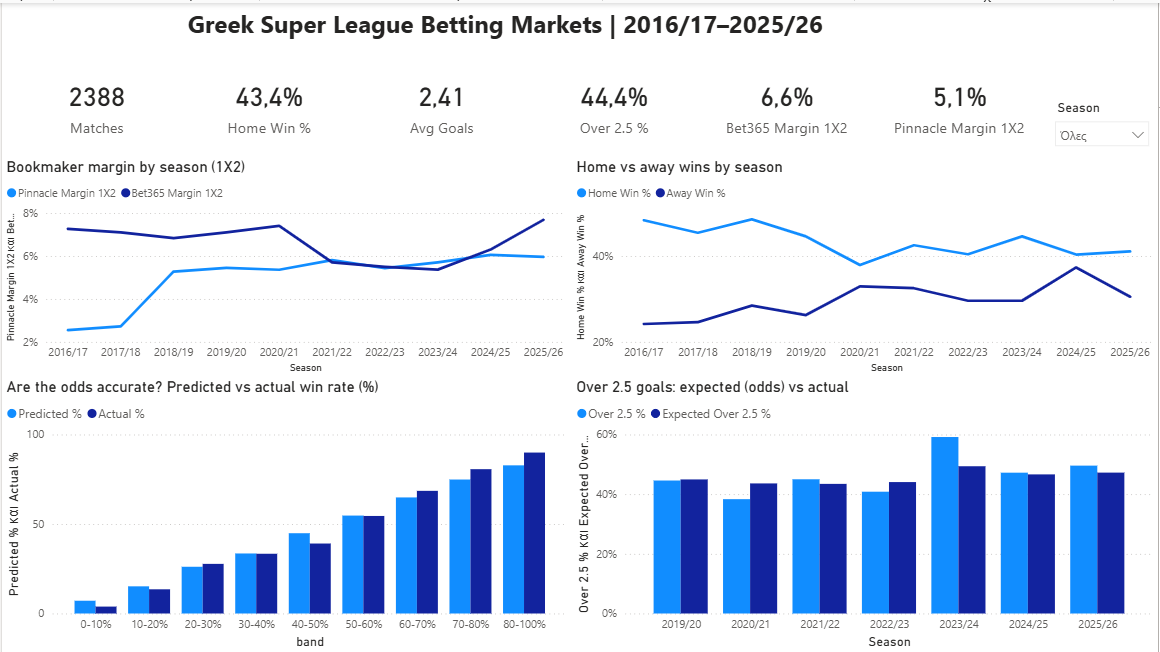

What the dashboard file says about the page in this screenshot:
{"tool":"powerbi","page":{"name":"Σελίδα 1","canvas":[1280,720],"ordinal":0},"visuals":[{"type":"card","fields":{"Values":["matches_clean.Matches"]},"box":[9.7,44.3,191,137],"z":0},{"type":"card","fields":{"Values":["matches_clean.Home Win %"]},"box":[200.7,44.3,191,137],"z":1000},{"type":"card","fields":{"Values":["matches_clean.Avg Goals"]},"box":[391.7,44.3,191,137],"z":2000},{"type":"card","fields":{"Values":["matches_clean.Over 2.5 %"]},"box":[582.7,44.3,191,137],"z":3000},{"type":"card","fields":{"Values":["matches_clean.Bet365 Margin 1X2"]},"box":[773.7,44.3,191,137],"z":4000},{"type":"card","fields":{"Values":["matches_clean.Pinnacle Margin 1X2"]},"box":[964.7,44.3,191,137],"z":5000},{"type":"lineChart","title":"Bookmaker margin by season (1X2)","fields":{"Category":["matches_clean.Season"],"Y":["matches_clean.Pinnacle Margin 1X2","matches_clean.Bet365 Margin 1X2"]},"box":[0,171.6,631.1,243.6],"z":6000},{"type":"lineChart","title":"Home vs away wins by season","fields":{"Category":["matches_clean.Season"],"Y":["matches_clean.Home Win %","matches_clean.Away Win %"]},"box":[631.1,171.6,649.1,243.6],"z":7000},{"type":"clusteredColumnChart","title":"Are the odds accurate? Predicted vs actual win rate (%)","fields":{"Category":["calibration_tests.band"],"Y":["Sum(calibration_tests.predicted_pct)","Sum(calibration_tests.actual_pct)"]},"box":[0,415.2,631.1,304.5],"z":8000},{"type":"clusteredColumnChart","title":"Over 2.5 goals: expected (odds) vs actual","fields":{"Category":["matches_clean.Season"],"Y":["matches_clean.Over 2.5 %","matches_clean.Expected Over 2.5 %"]},"box":[631.1,415.2,649.1,304.5],"z":9000},{"type":"slicer","fields":{"Values":["matches_clean.Season"]},"box":[1155.7,102.4,124.6,78.9],"z":10000},{"type":"textbox","box":[200.7,0,859.5,88.6],"z":10001}]}

Visuals, with their boxes in screenshot pixels (x1, y1, x2, y2), scaled from the page's 1280x720 canvas onto the 1160x652 screenshot:
card - matches_clean.Matches: box=[9, 40, 182, 164]
card - matches_clean.Home Win %: box=[182, 40, 355, 164]
card - matches_clean.Avg Goals: box=[355, 40, 528, 164]
card - matches_clean.Over 2.5 %: box=[528, 40, 701, 164]
card - matches_clean.Bet365 Margin 1X2: box=[701, 40, 874, 164]
card - matches_clean.Pinnacle Margin 1X2: box=[874, 40, 1047, 164]
"Bookmaker margin by season (1X2)" lineChart: box=[0, 155, 572, 376]
"Home vs away wins by season" lineChart: box=[572, 155, 1159, 376]
"Are the odds accurate? Predicted vs actual win rate (%)" clusteredColumnChart: box=[0, 376, 572, 651]
"Over 2.5 goals: expected (odds) vs actual" clusteredColumnChart: box=[572, 376, 1159, 651]
slicer - matches_clean.Season: box=[1047, 93, 1159, 164]
textbox: box=[182, 0, 961, 80]
